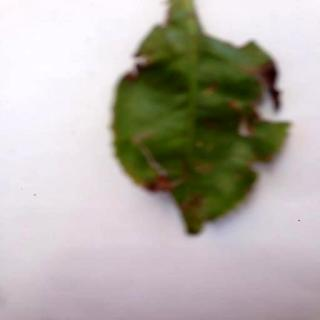Algal Leaf: (112, 1, 292, 237)
